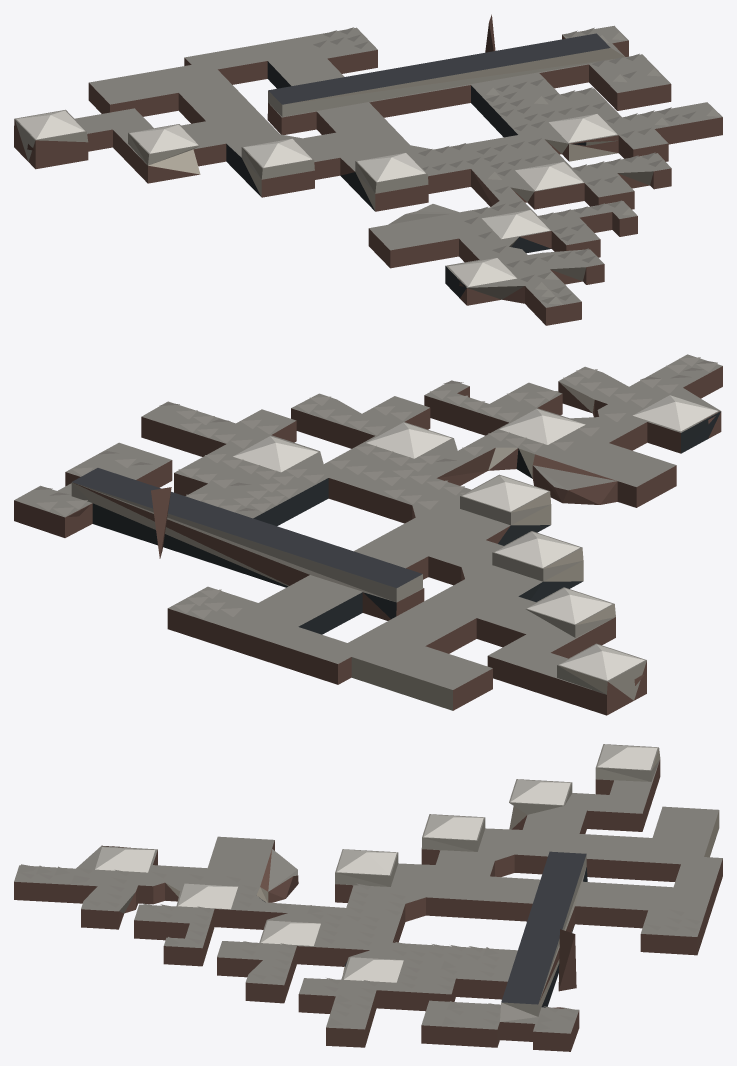
File: burgerweeshuis-van-eyck.lod2.glb
The picture shows the model from 3 angles, top to bottom: view 1: azimuth 30°, elevation 25°; view 2: azimuth 150°, elevation 25°; view 3: azimuth 270°, elevation 25°; orthographic projection. The views are drawn at different scales.
Visible parts, largest first — view 1: lod2; view 2: lod2; view 3: lod2.
Boxes of the visible parts, x1,y1,x2,y2 form: lod2: (14,14,722,325); lod2: (14,354,722,715); lod2: (14,744,722,1051).
Bounding box in the file's own units: 118 × 11.51 × 127.
